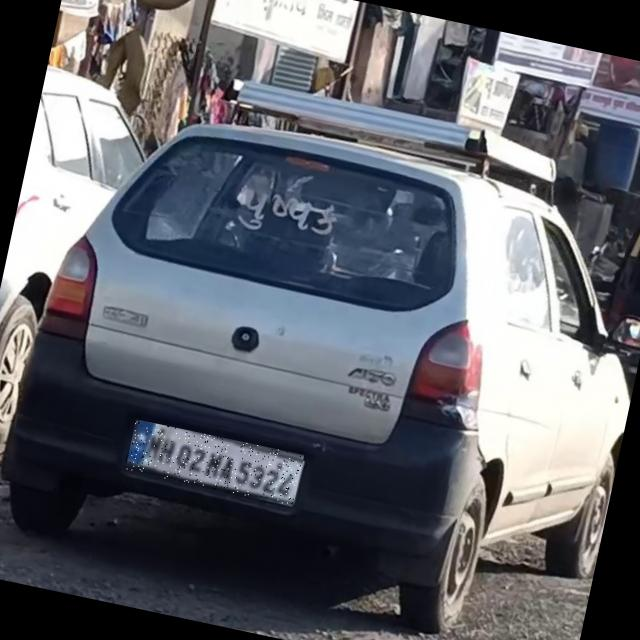Plate: (126, 420, 305, 507)
